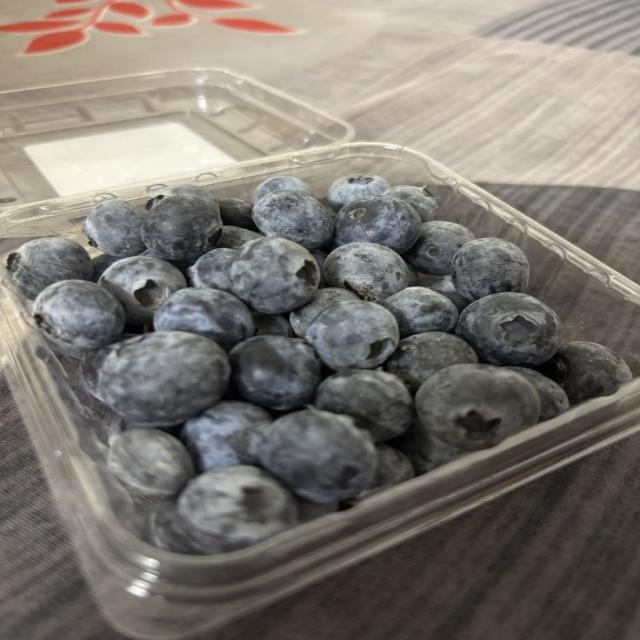blueberry: (99, 331, 230, 425), (260, 410, 376, 502), (415, 365, 539, 450), (178, 466, 296, 551), (456, 293, 561, 366), (316, 370, 413, 441), (230, 335, 320, 410), (230, 238, 319, 313), (34, 280, 125, 351), (306, 301, 399, 370), (182, 401, 272, 471), (154, 288, 254, 349), (99, 257, 186, 324), (540, 341, 632, 404), (108, 429, 194, 495), (385, 332, 478, 393), (7, 237, 93, 298), (323, 243, 409, 302), (142, 196, 221, 260), (335, 196, 420, 253), (451, 238, 528, 300), (253, 191, 333, 250), (389, 419, 464, 474), (148, 500, 221, 554), (381, 287, 458, 337), (403, 221, 474, 275), (352, 443, 415, 502), (82, 200, 146, 257), (80, 334, 134, 401), (289, 288, 359, 337), (509, 367, 569, 421), (327, 175, 390, 212), (187, 248, 237, 292), (368, 443, 414, 489), (384, 186, 438, 222), (420, 275, 473, 311), (146, 184, 217, 210), (252, 176, 313, 205), (140, 250, 195, 277), (218, 199, 256, 230), (296, 497, 339, 523), (218, 226, 264, 249), (253, 312, 293, 337), (92, 254, 120, 282), (311, 250, 327, 287), (311, 250, 327, 271), (407, 265, 420, 286)
